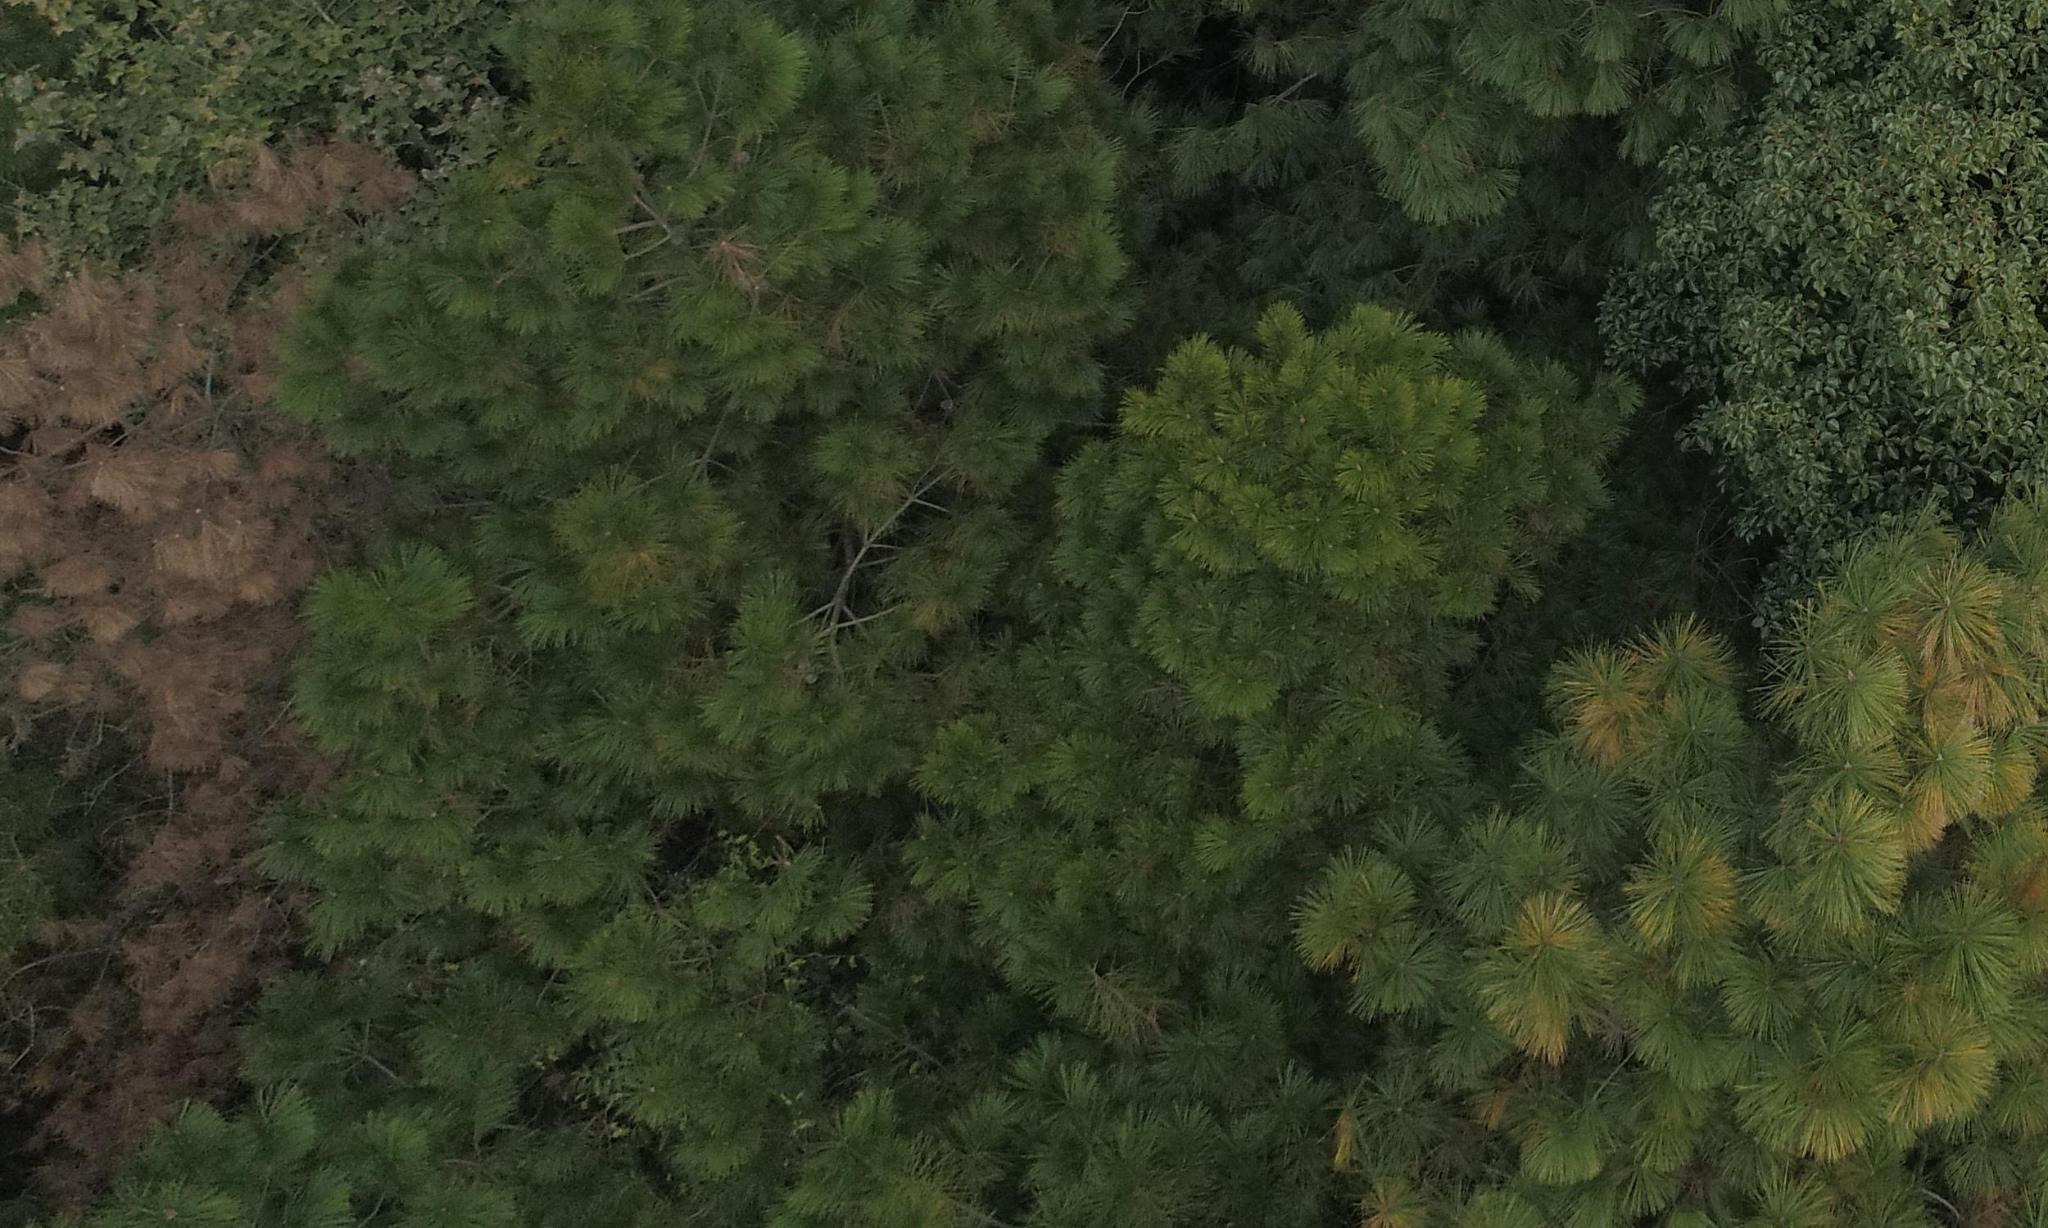heavy: (16, 104, 373, 1172)
light: (1507, 572, 2019, 1175)
